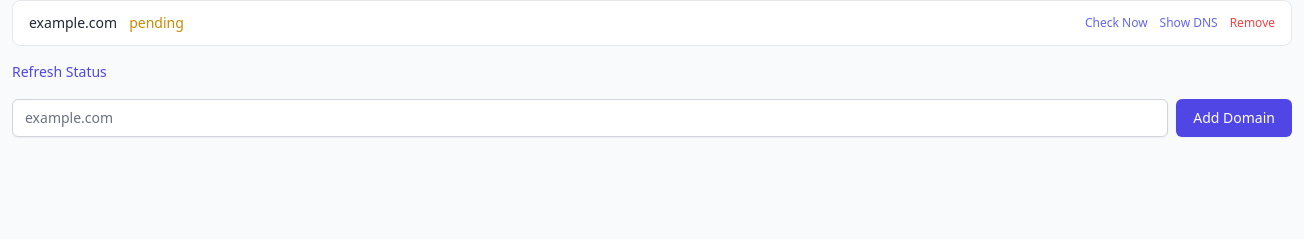
Test case: DomainsPanel › shows DNS TXT record details when Show DNS is clicked
Click the button "Show DNS".
click(1189, 23)  # box top-left (1160, 15), bottom-right (1218, 31)
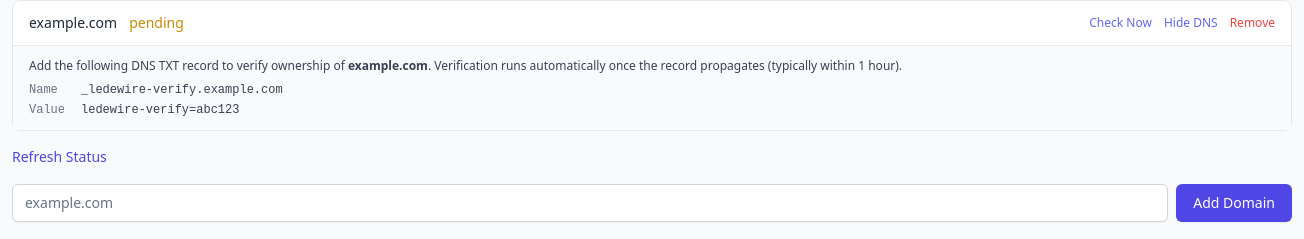
Result: the text "_ledewire-verify.example.com" is shown at top-left (81, 83), bottom-right (283, 97)
Result: the text "ledewire-verify=abc123" is shown at top-left (81, 103), bottom-right (239, 117)
